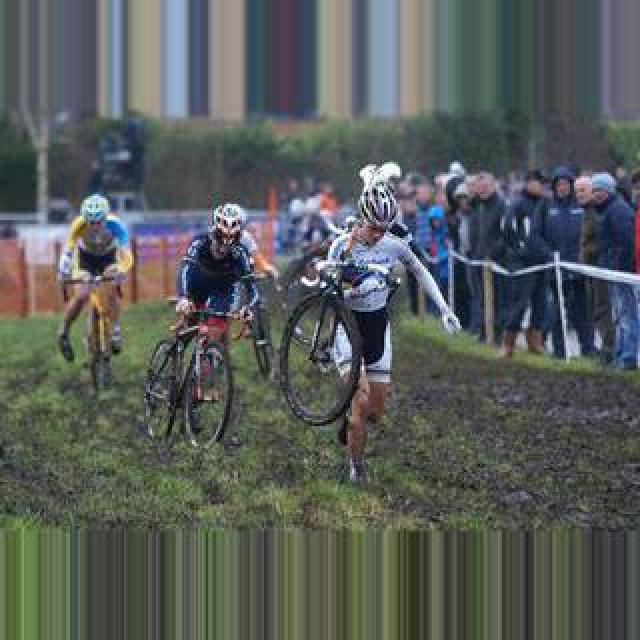MC-Bike: (316, 172, 460, 488), (172, 202, 272, 400), (56, 190, 134, 374), (578, 172, 638, 370), (500, 170, 554, 358), (462, 170, 514, 344), (540, 168, 586, 364)
Person: (143, 297, 265, 451), (277, 247, 375, 429), (59, 265, 125, 393)
